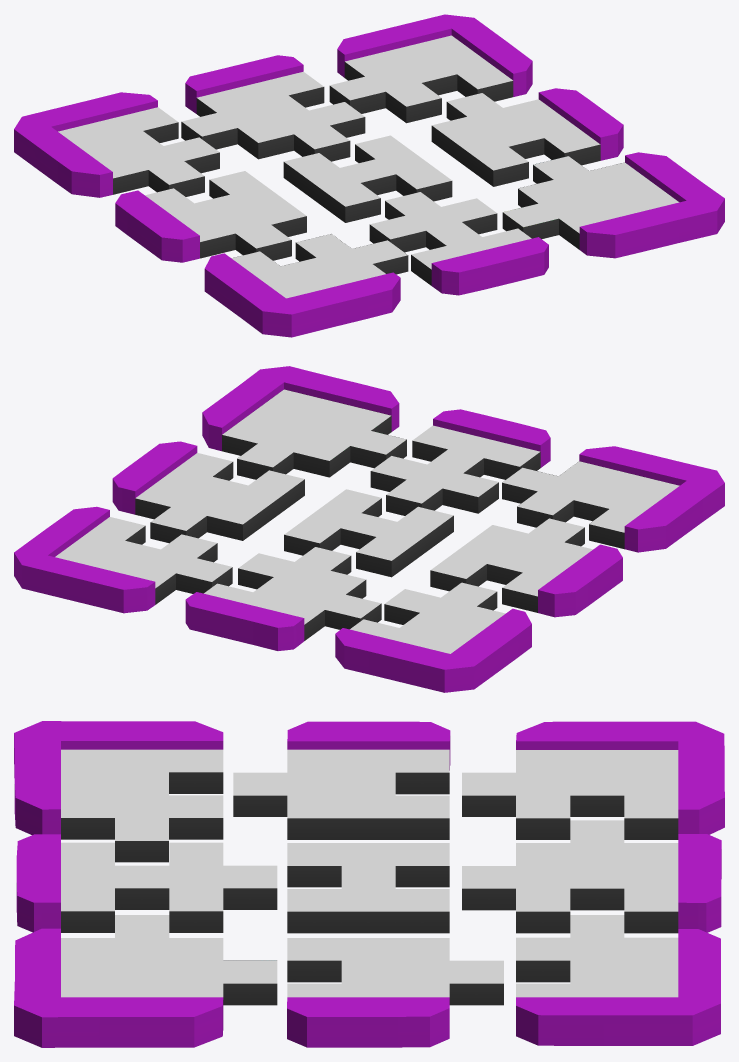
The model's file is ROMPECABEZAS.fbx.
3 views of the same model, one above another, from view 1: azimuth 30°, elevation 25°; view 2: azimuth 150°, elevation 25°; view 3: azimuth 270°, elevation 25° (orthographic). The views are drawn at different scales.
Visible parts, largest first — view 1: Plane.005, Plane.006, Plane.001, Plane.003, Plane.004, Plane.002, Plane.009, Plane.007, Plane.008; view 2: Plane.005, Plane.003, Plane.001, Plane.006, Plane.004, Plane.002, Plane.007, Plane.009, Plane.008; view 3: Plane.005, Plane.003, Plane.006, Plane.001, Plane.009, Plane.004, Plane.002, Plane.007, Plane.008.
Boxes of the visible parts, x1,y1,x2,y2 form: Plane.005: [502, 152, 724, 258]; Plane.006: [14, 92, 219, 197]; Plane.001: [329, 14, 532, 123]; Plane.003: [204, 234, 408, 337]; Plane.004: [181, 55, 365, 161]; Plane.002: [431, 88, 623, 186]; Plane.009: [115, 171, 306, 262]; Plane.007: [369, 192, 548, 295]; Plane.008: [283, 135, 452, 222]; Plane.005: [202, 366, 406, 479]; Plane.003: [502, 446, 724, 552]; Plane.001: [14, 506, 232, 613]; Plane.006: [335, 582, 531, 692]; Plane.004: [185, 547, 381, 650]; Plane.002: [112, 441, 304, 543]; Plane.007: [370, 409, 550, 515]; Plane.009: [430, 518, 622, 617]; Plane.008: [284, 489, 453, 577]; Plane.005: [14, 915, 277, 1047]; Plane.003: [14, 721, 223, 862]; Plane.006: [462, 721, 724, 839]; Plane.001: [516, 915, 720, 1045]; Plane.009: [233, 721, 450, 839]; Plane.004: [462, 820, 721, 933]; Plane.002: [287, 938, 503, 1047]; Plane.007: [16, 834, 277, 932]; Plane.008: [287, 843, 449, 933].
Bounding box in the file's own units: 288 × 13.89 × 292.
